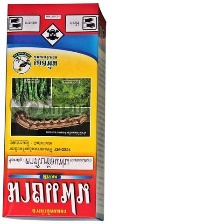carton: (0, 1, 109, 223)
